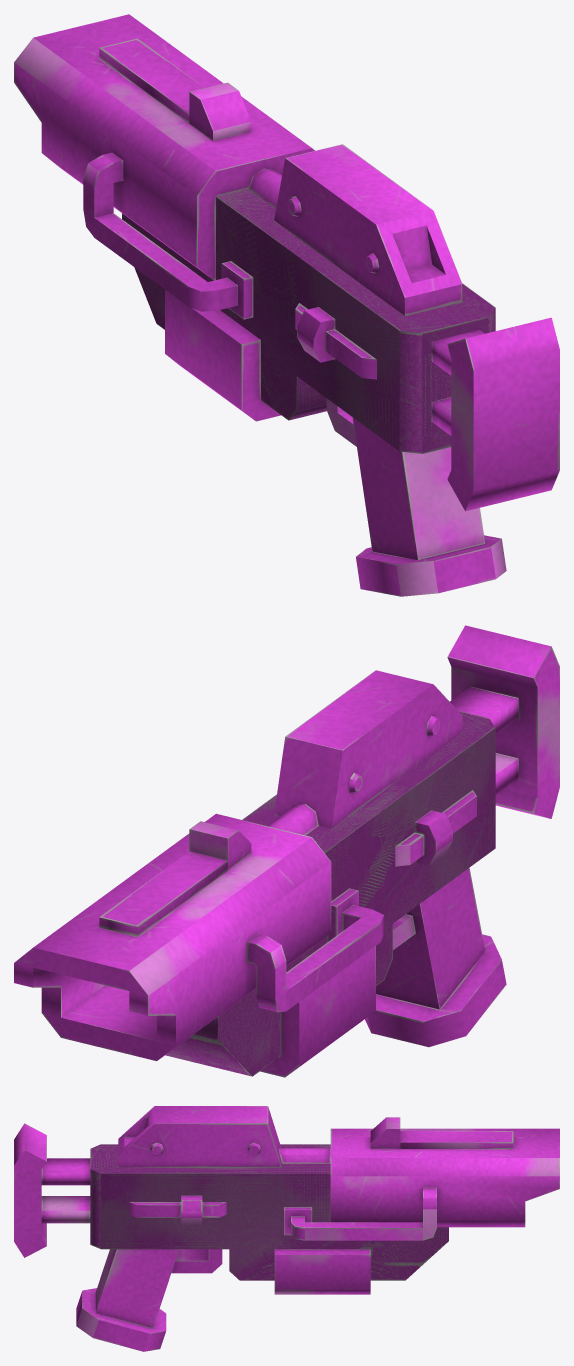
File: blaster-g.glb
3 views of the same model, one above another, from view 1: azimuth 30°, elevation 25°; view 2: azimuth 150°, elevation 25°; view 3: azimuth 270°, elevation 25° (orthographic). The views are drawn at different scales.
Parts seen in each view (by area): view 1: blaster-g; view 2: blaster-g; view 3: blaster-g.
Boxes of the visible parts, x1=… form: blaster-g: x1=14, y1=14, x2=559, y2=596; blaster-g: x1=14, y1=625, x2=559, y2=1077; blaster-g: x1=14, y1=1106, x2=559, y2=1351.
Bounding box in the file's own units: 0.2 × 0.3579 × 0.7859.
Materials: 1 (1 with a texture image).
